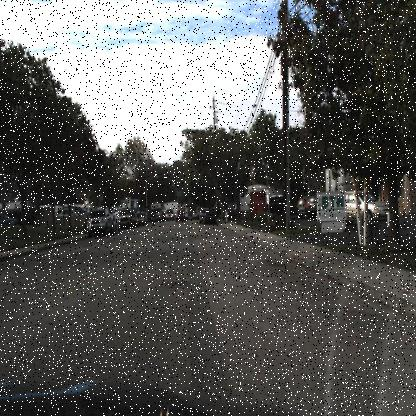car: (341, 180, 392, 228), (84, 203, 116, 239), (118, 203, 136, 234), (52, 202, 80, 221), (304, 189, 320, 220), (202, 203, 218, 230), (174, 206, 187, 224)
